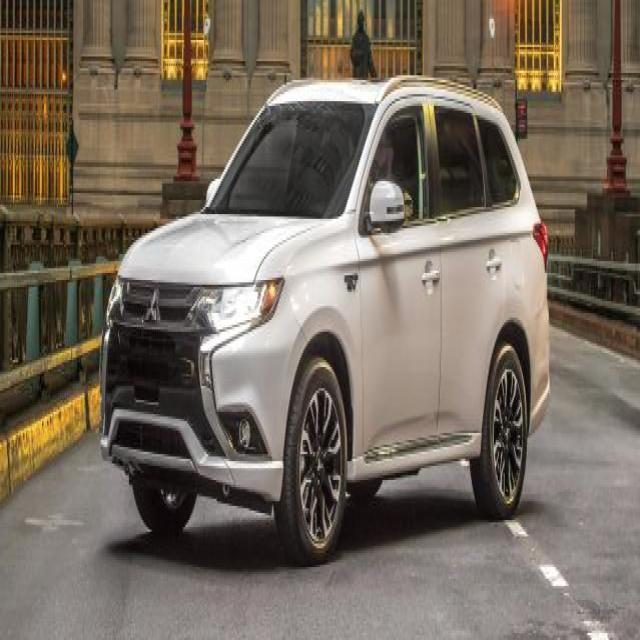light_vehicle: (99, 72, 551, 566)
